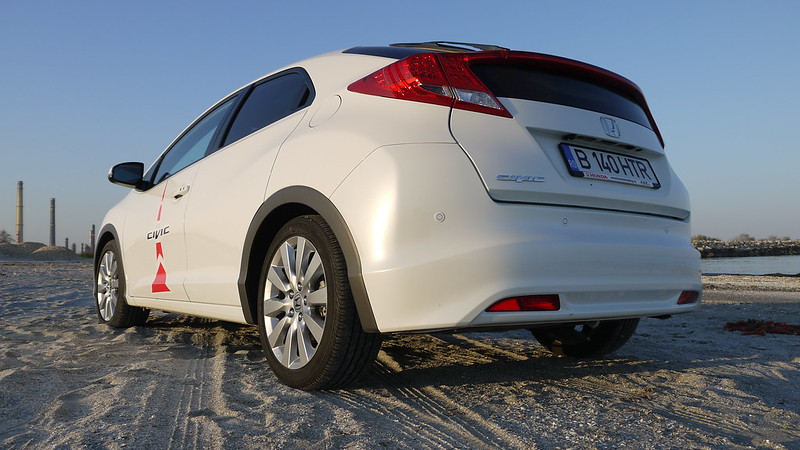car: (90, 33, 718, 398)
